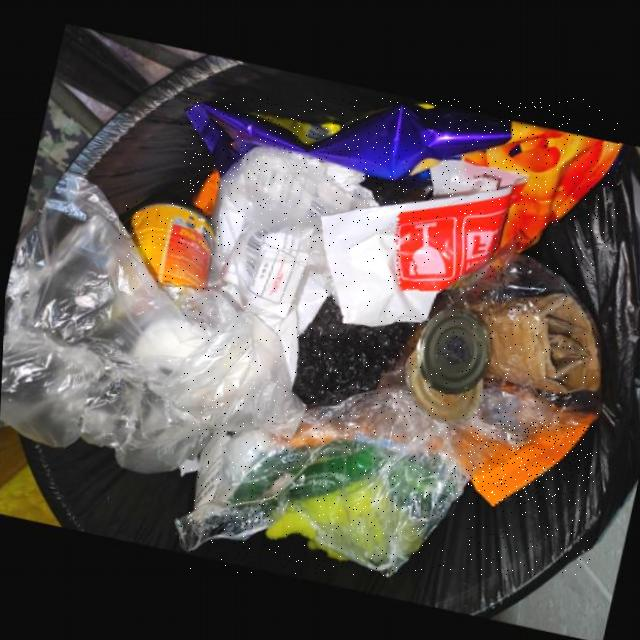metal: (119, 201, 209, 290), (412, 307, 488, 394), (402, 338, 479, 421)
plastic: (181, 252, 598, 576)
wrapper: (180, 98, 619, 249), (468, 421, 586, 504)
